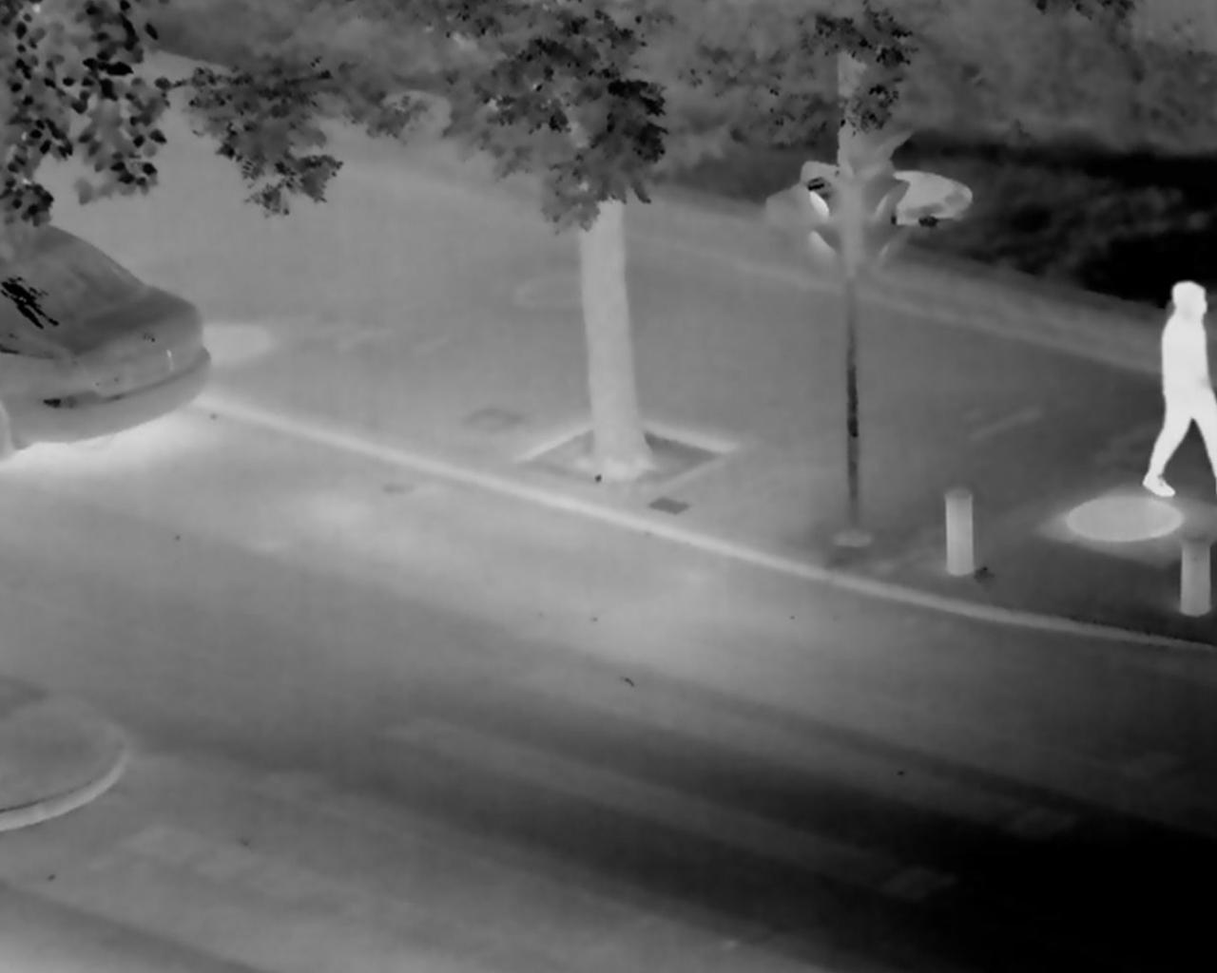person: (1136, 281, 1217, 493)
